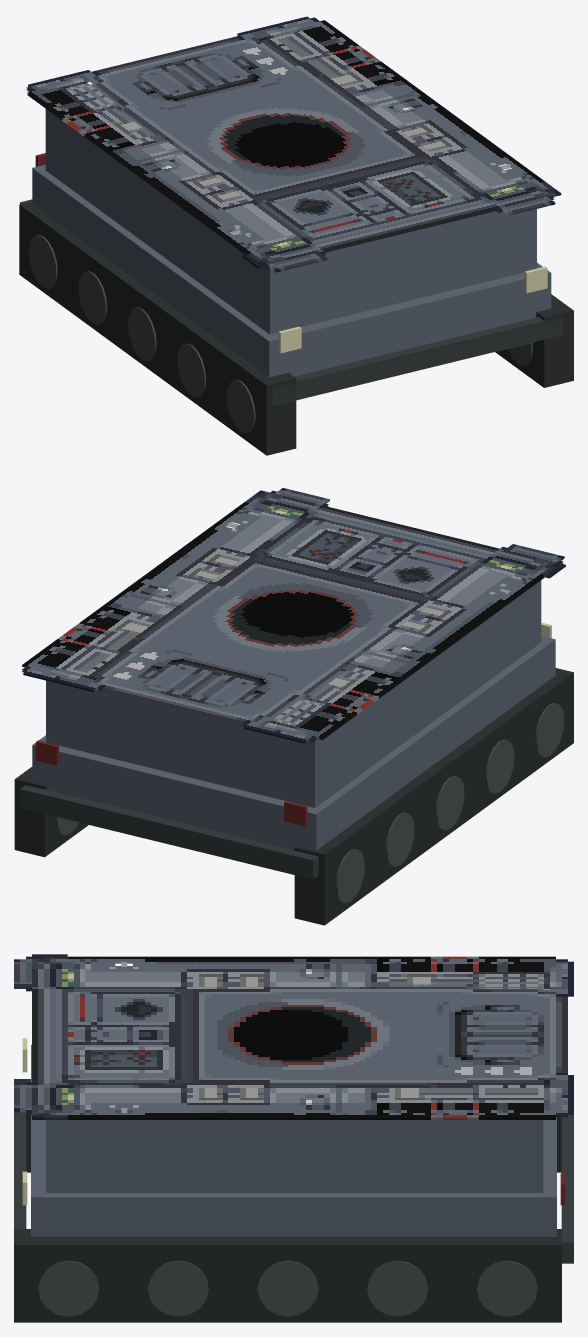
Rendered from CMU3DReduxVehicleTankTWE.glb.
3 renders of one model, top to bottom at view 1: azimuth 30°, elevation 25°; view 2: azimuth 150°, elevation 25°; view 3: azimuth 270°, elevation 25°, orthographic. The views are drawn at different scales.
Parts seen in each view (by area): view 1: source hull roof panel (×3), upper hull, closed lower chassis, continuous track (×2), front bumper, track road wheel (×5); view 2: source hull roof panel (×3), upper hull, closed lower chassis, continuous track (×2), rear bumper, track road wheel (×5); view 3: source hull roof panel (×3), upper hull, continuous track (×2), closed lower chassis, track road wheel (×5), rear bumper, front bumper.
Part boxes in pixels (bbox=[...]): source hull roof panel (×3): bbox=[26, 16, 561, 272]; upper hull: bbox=[45, 83, 536, 334]; closed lower chassis: bbox=[32, 164, 551, 400]; continuous track (×2): bbox=[19, 201, 573, 455]; front bumper: bbox=[272, 316, 563, 405]; track road wheel (×5): bbox=[29, 235, 255, 433]; source hull roof panel (×3): bbox=[22, 488, 565, 743]; upper hull: bbox=[46, 519, 541, 807]; closed lower chassis: bbox=[32, 636, 555, 874]; continuous track (×2): bbox=[14, 668, 573, 925]; rear bumper: bbox=[20, 785, 318, 879]; track road wheel (×5): bbox=[335, 703, 564, 903]; source hull roof panel (×3): bbox=[14, 954, 573, 1119]; upper hull: bbox=[46, 966, 543, 1192]; continuous track (×2): bbox=[14, 1079, 561, 1322]; closed lower chassis: bbox=[31, 1044, 556, 1236]; track road wheel (×5): bbox=[38, 1260, 537, 1316]; rear bumper: bbox=[561, 1115, 573, 1263]; front bumper: bbox=[14, 1112, 26, 1228].
Bounding box in the file's own units: 2.08 × 1.17 × 2.94.
9 materials, 3 textured.
